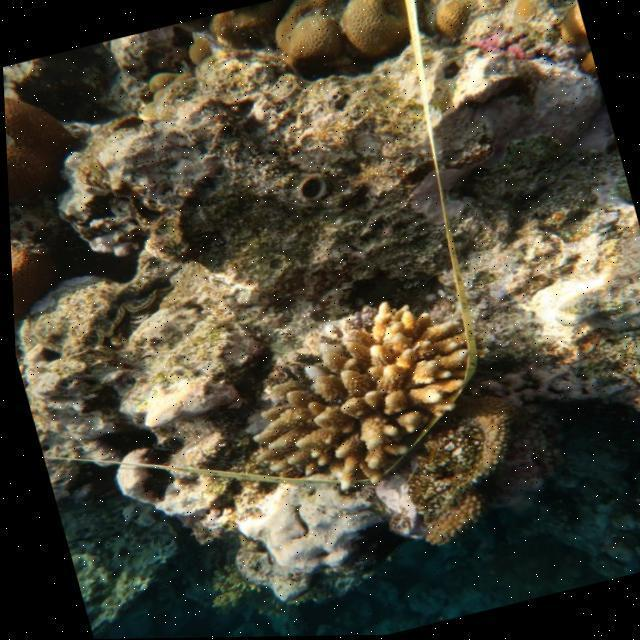Healthy Coral: (215, 279, 494, 500), (388, 403, 534, 550), (252, 0, 427, 77), (7, 200, 77, 330), (5, 88, 75, 200)
